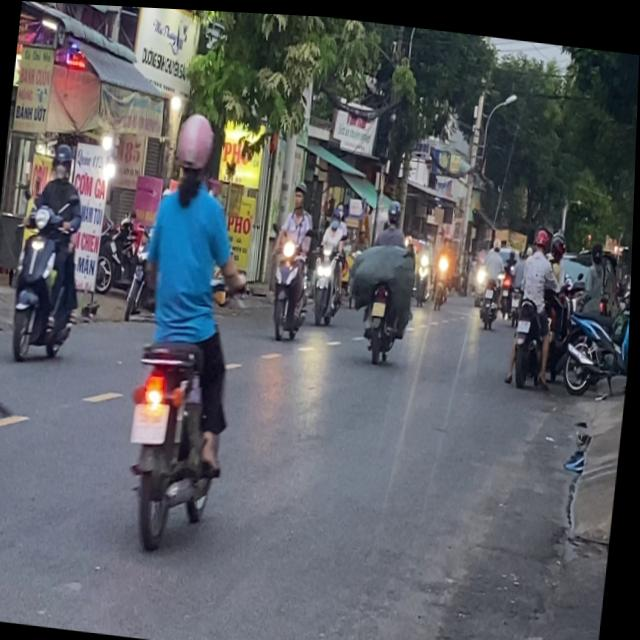helmet: (170, 107, 218, 191), (50, 140, 75, 180), (292, 176, 308, 207), (386, 192, 402, 220), (533, 221, 550, 246)
licenseplate: (109, 101, 264, 556), (6, 136, 97, 367), (345, 189, 425, 362), (506, 218, 566, 386), (264, 174, 321, 340)
nohelmet: (133, 400, 171, 441), (373, 296, 387, 312), (519, 313, 532, 327)
